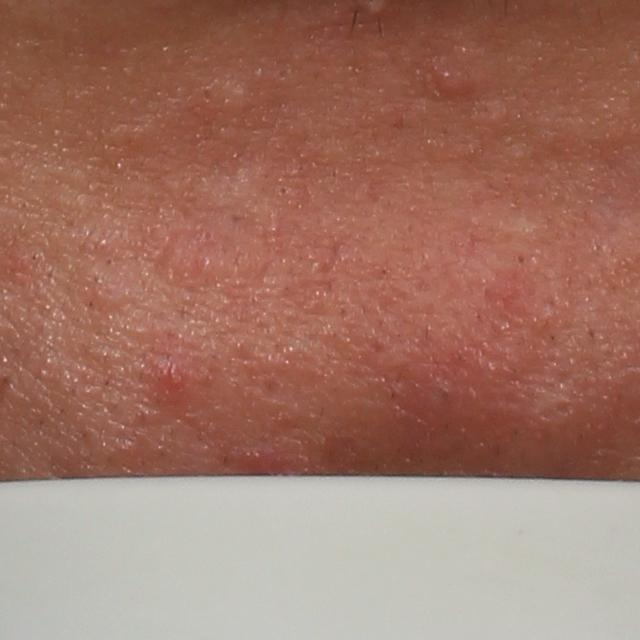hypertrophic_scar: (187, 165, 288, 238), (149, 231, 216, 288), (205, 73, 255, 119), (491, 218, 551, 245)
papule: (74, 264, 123, 312), (150, 349, 191, 393), (436, 65, 473, 96)
